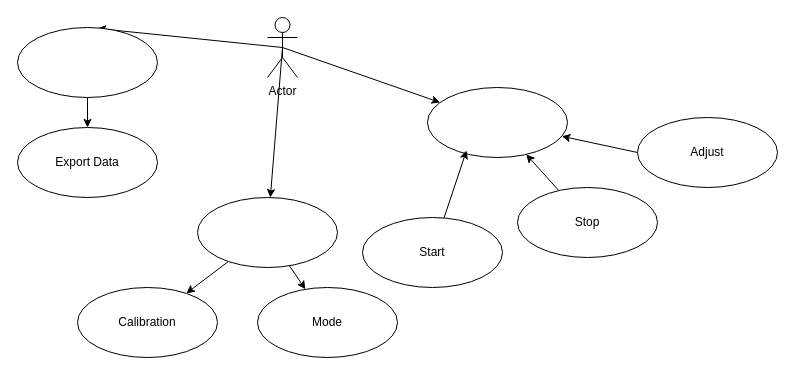
Some shapes in this 795 by 375 pixel diagram are drawn without their labels. The shapes that lost their labels are listed below. From the top down, each one's centre as x and y in pixels, then its label:
(87,62): Logging
(497,122): Navigation
(267,232): Config
